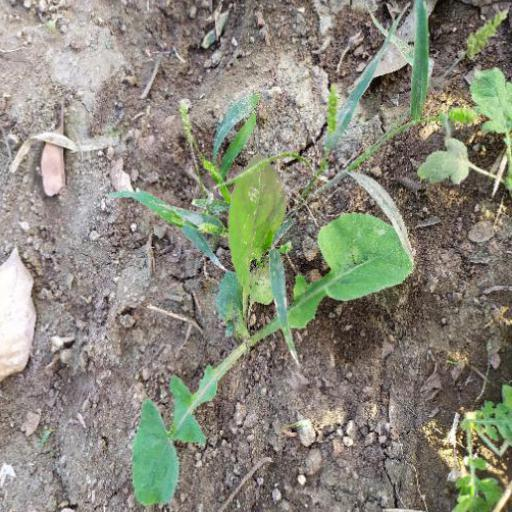weed: (86, 175, 420, 512)
